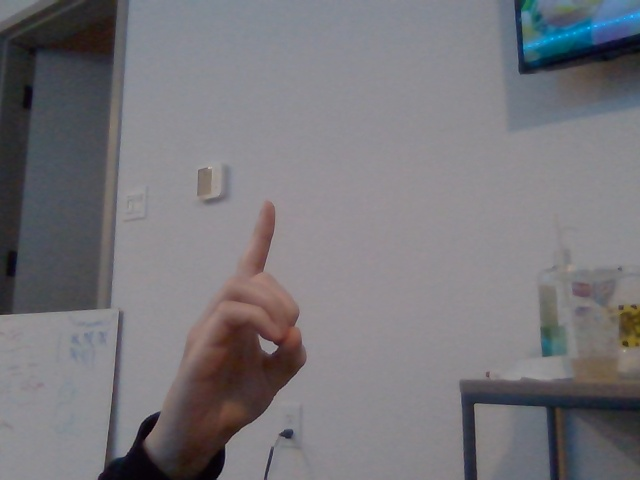d: (168, 197, 308, 464)
